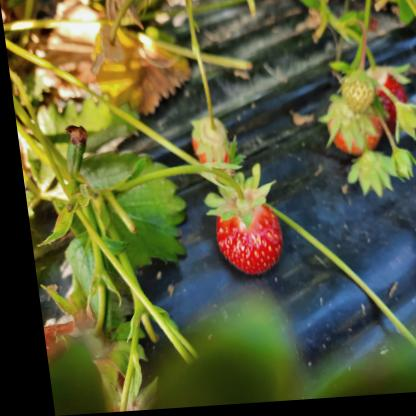ripe: (208, 199, 275, 273), (321, 104, 376, 159), (186, 120, 234, 176), (363, 77, 406, 131)
unripe: (338, 78, 373, 116)
